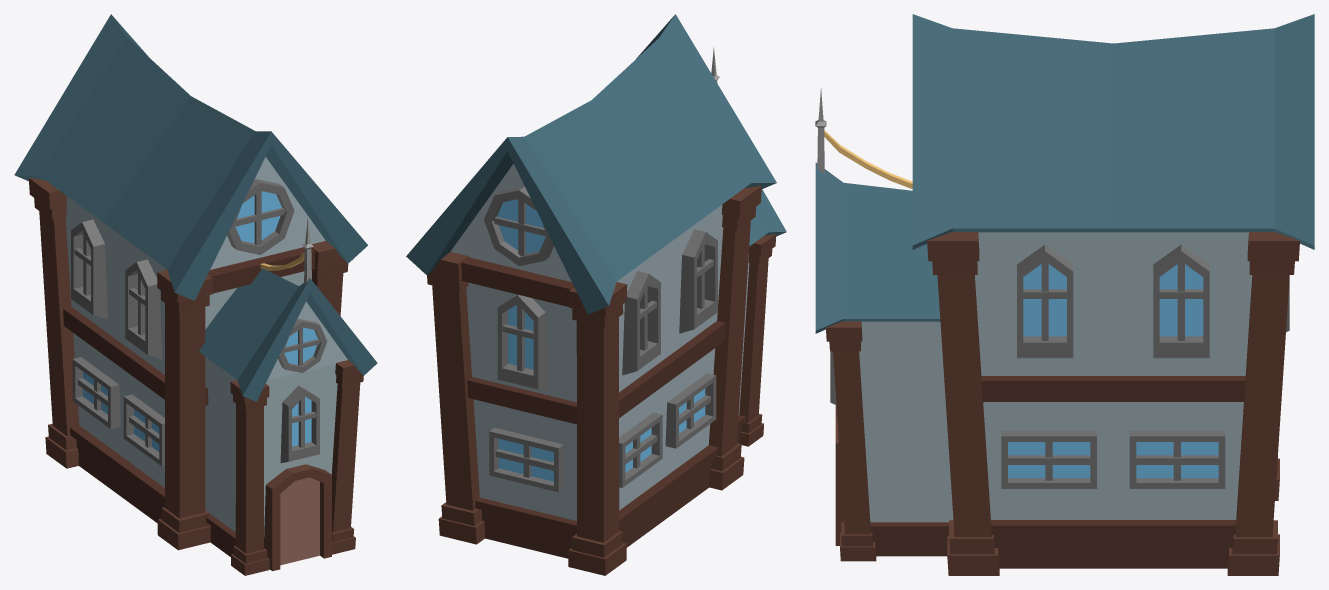
File: CASA05fbx.fbx
3 views of the same model, side by side, from view 1: azimuth 30°, elevation 25°; view 2: azimuth 150°, elevation 25°; view 3: azimuth 270°, elevation 25° (orthographic). The views are drawn at different scales.
Parts seen in each view (by area): view 1: CASA05; view 2: CASA05; view 3: CASA05.
Boxes of the visible parts, x1,y1,x2,y2 form: CASA05: [14, 14, 377, 575]; CASA05: [406, 14, 786, 575]; CASA05: [815, 14, 1314, 575].
Bounding box in the file's own units: 586 × 1185 × 1043.
1 material, 1 textured.
